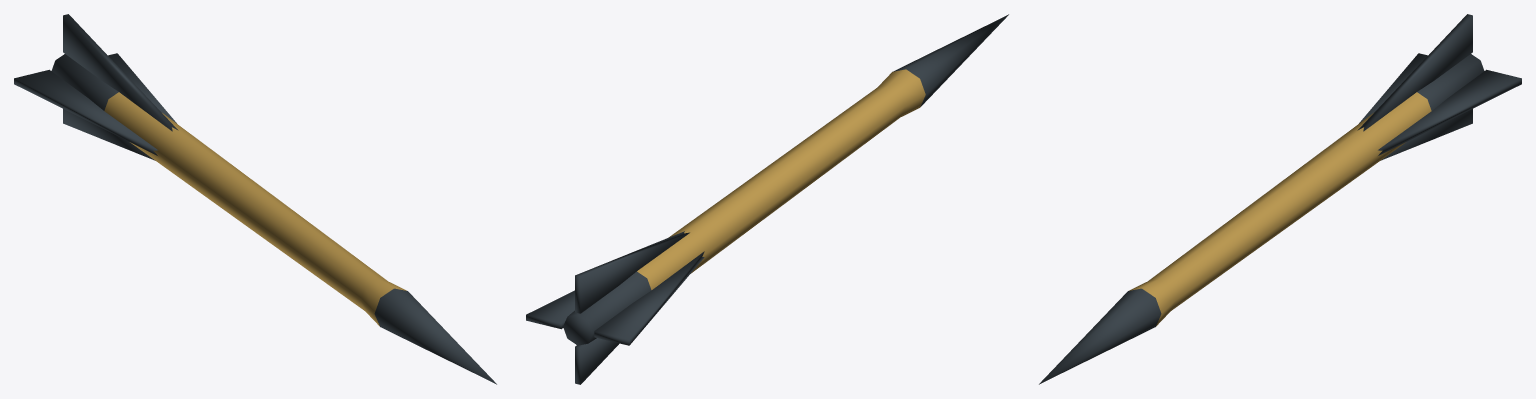
Rendered from tank_dart_projectile_game.glb.
3 renders of one model, left to right at view 1: azimuth 30°, elevation 25°; view 2: azimuth 150°, elevation 25°; view 3: azimuth 330°, elevation 25°, orthographic.
Visible parts, largest first — view 1: AMMO_MESH.037; view 2: AMMO_MESH.037; view 3: AMMO_MESH.037.
Boxes of the visible parts, x1=… form: AMMO_MESH.037: x1=14, y1=14, x2=496, y2=384; AMMO_MESH.037: x1=526, y1=14, x2=1008, y2=384; AMMO_MESH.037: x1=1039, y1=14, x2=1521, y2=384.
Size of the model in its own units: 0.0882 by 0.0882 by 0.6392.
